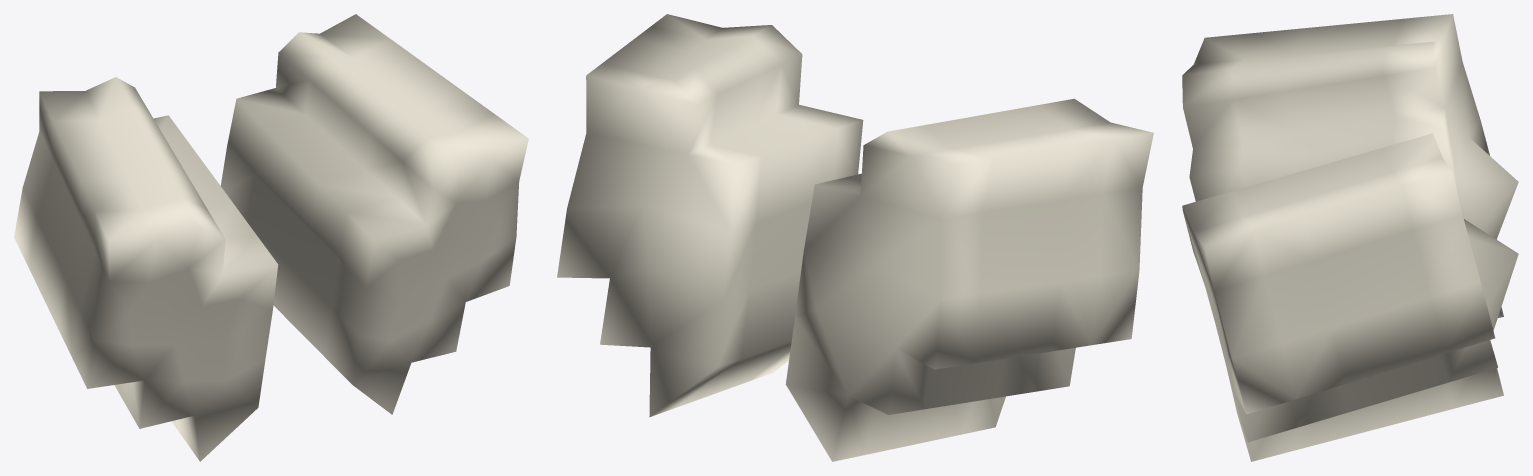
File: fma59432_mm919.glb
3 views of the same model, side by side, from view 1: azimuth 30°, elevation 25°; view 2: azimuth 150°, elevation 25°; view 3: azimuth 270°, elevation 25° (orthographic). The views are drawn at different scales.
Visible parts, largest first — view 1: FMA59432_MM919; view 2: FMA59432_MM919; view 3: FMA59432_MM919.
Boxes of the visible parts, x1,y1,x2,y2 form: FMA59432_MM919: (14, 14, 528, 461); FMA59432_MM919: (557, 14, 1153, 461); FMA59432_MM919: (1182, 14, 1518, 461).
Bounding box in the file's own units: 0.00385 × 0.00278 × 0.0026.
